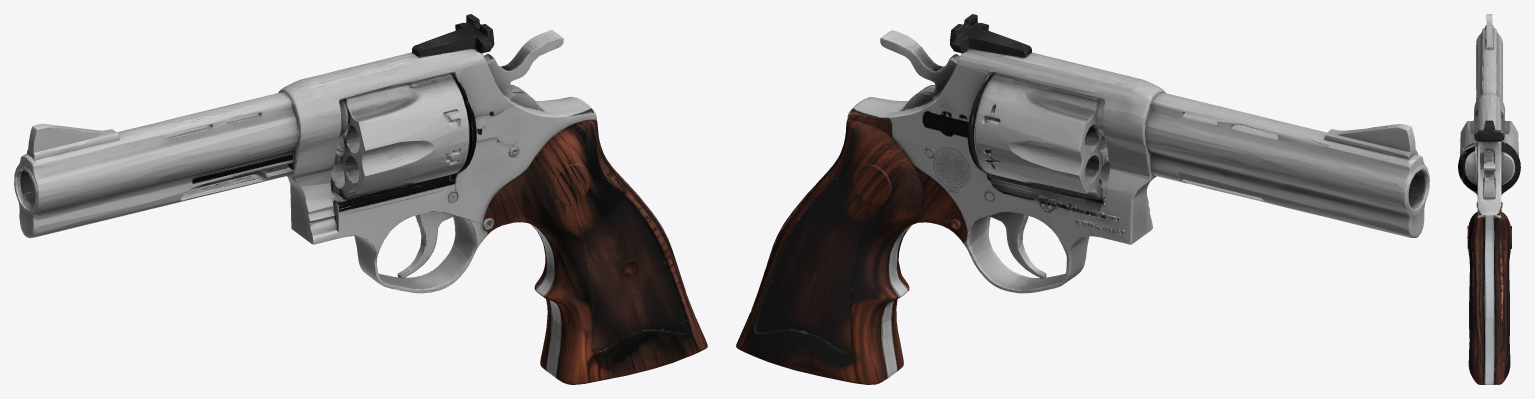
3 renders of one model, left to right at view 1: azimuth 30°, elevation 25°; view 2: azimuth 150°, elevation 25°; view 3: azimuth 270°, elevation 25°, orthographic. The views are drawn at different scales.
Size of the model in its own units: 1.9 by 1.01 by 0.2875.
Materials: 1 (1 with a texture image).
